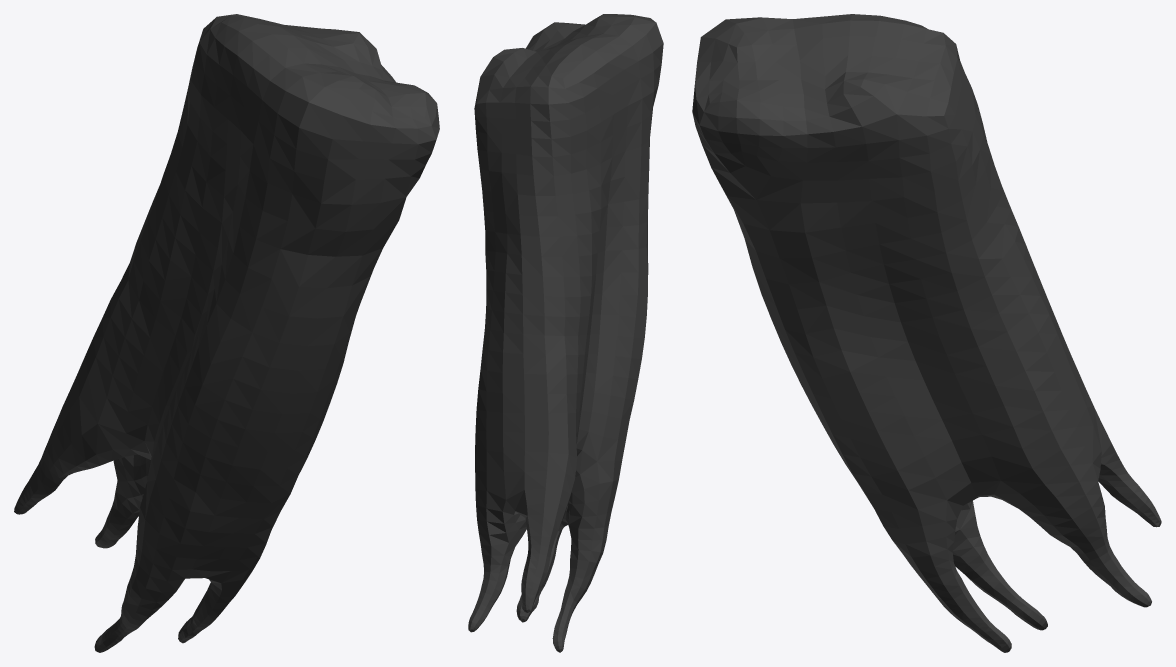
The model's file is L_mand_M1.glb.
3 renders of one model, left to right at view 1: azimuth 30°, elevation 25°; view 2: azimuth 150°, elevation 25°; view 3: azimuth 270°, elevation 25°, orthographic. The views are drawn at different scales.
Visible parts, largest first — view 1: L_mand_M1; view 2: L_mand_M1; view 3: L_mand_M1.
Part boxes in pixels (bbox=[...]): L_mand_M1: bbox=[14, 14, 439, 652]; L_mand_M1: bbox=[468, 14, 663, 652]; L_mand_M1: bbox=[692, 14, 1161, 652].
Size of the model in its own units: 0.1074 by 0.3292 by 0.2174.
Materials: 1 (1 with a texture image).
